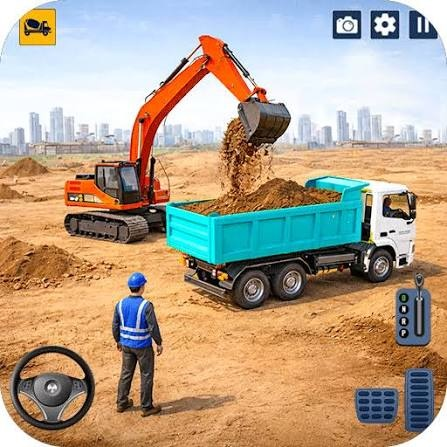excavator: (49, 26, 279, 244)
truck: (161, 163, 430, 320)
